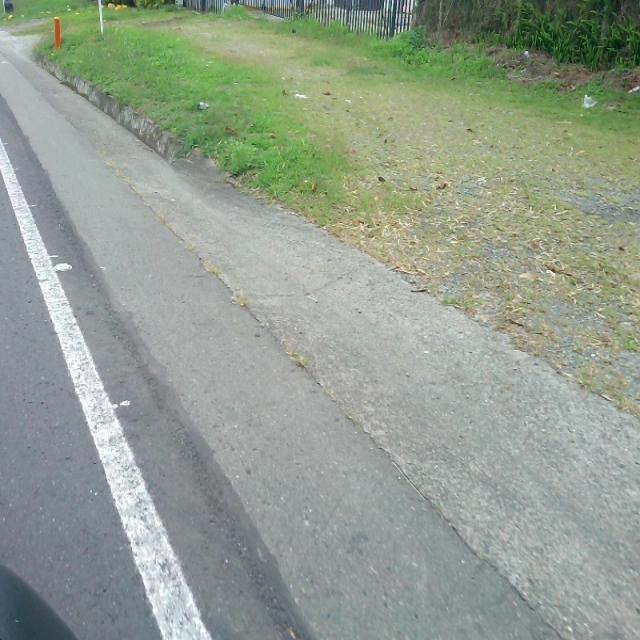DITCH: (4, 17, 638, 638), (2, 25, 638, 638)
